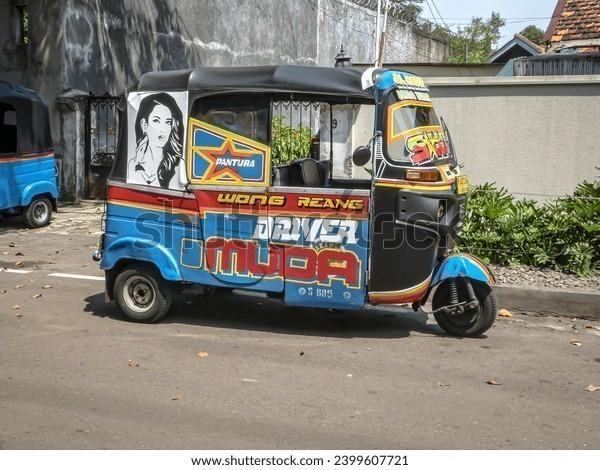keke: (93, 49, 497, 354), (0, 66, 58, 247)
